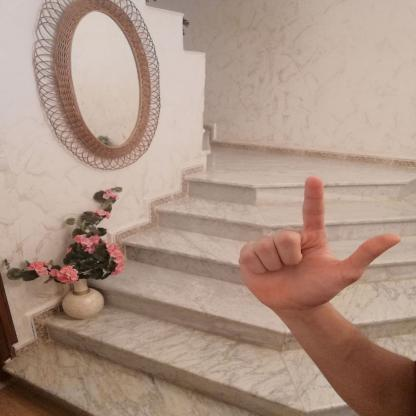LAAM: (223, 171, 410, 320)
